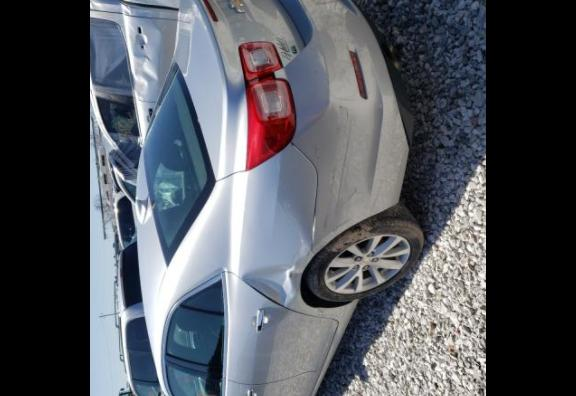Broken part: (238, 274, 309, 313)
Dent: (242, 260, 304, 306)
Scratch: (333, 119, 350, 222), (324, 167, 334, 226), (370, 178, 383, 212), (344, 186, 357, 203), (338, 105, 349, 117), (313, 144, 318, 155), (344, 124, 345, 132)
